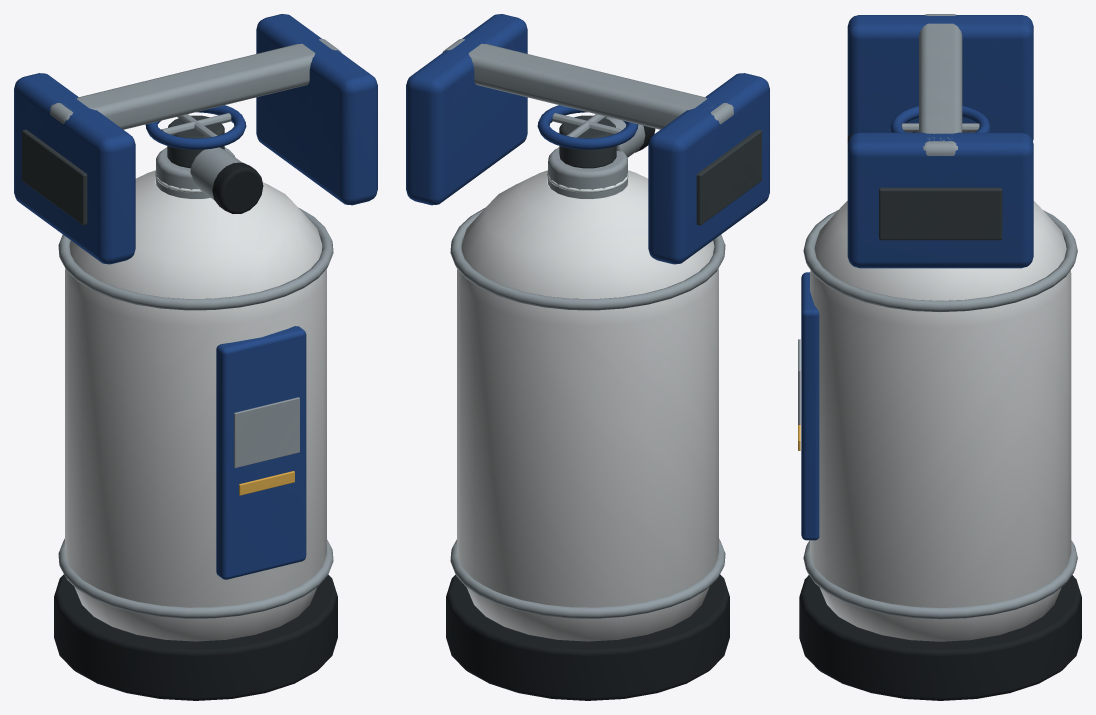
Rendered from 17_coolant_canister.gltf.
3 views of the same model, side by side, from view 1: azimuth 30°, elevation 25°; view 2: azimuth 150°, elevation 25°; view 3: azimuth 270°, elevation 25° (orthographic).
Visible parts, largest first — view 1: 17_Cryo_Ceramic_Enamel, 17_Cryo_Cobalt_Enamel, 17_Cryo_Brushed_Steel, 17_Cryo_EPDM_Gasket, 17_Cryo_Anodized_Frame, 17_Cryo_Safety_Paint; view 2: 17_Cryo_Ceramic_Enamel, 17_Cryo_Cobalt_Enamel, 17_Cryo_Brushed_Steel, 17_Cryo_EPDM_Gasket, 17_Cryo_Anodized_Frame; view 3: 17_Cryo_Ceramic_Enamel, 17_Cryo_Cobalt_Enamel, 17_Cryo_EPDM_Gasket, 17_Cryo_Brushed_Steel, 17_Cryo_Anodized_Frame.
Boxes of the visible parts, x1,y1,x2,y2 form: 17_Cryo_Ceramic_Enamel: (65,170,326,641); 17_Cryo_Cobalt_Enamel: (14,14,377,579); 17_Cryo_Brushed_Steel: (50,39,341,618); 17_Cryo_EPDM_Gasket: (54,162,337,700); 17_Cryo_Anodized_Frame: (22,115,224,225); 17_Cryo_Safety_Paint: (239,471,294,495); 17_Cryo_Ceramic_Enamel: (457,170,718,641); 17_Cryo_Cobalt_Enamel: (406,14,769,264); 17_Cryo_Brushed_Steel: (442,39,733,618); 17_Cryo_EPDM_Gasket: (446,125,729,700); 17_Cryo_Anodized_Frame: (559,115,761,225); 17_Cryo_Ceramic_Enamel: (810,201,1071,641); 17_Cryo_Cobalt_Enamel: (801,15,1033,540); 17_Cryo_EPDM_Gasket: (799,134,1081,700); 17_Cryo_Brushed_Steel: (798,14,1077,619); 17_Cryo_Anodized_Frame: (879,130,1002,240).
Bounding box in the file's own units: 0.494 × 0.93 × 0.424.
7 materials, 5 textured.
